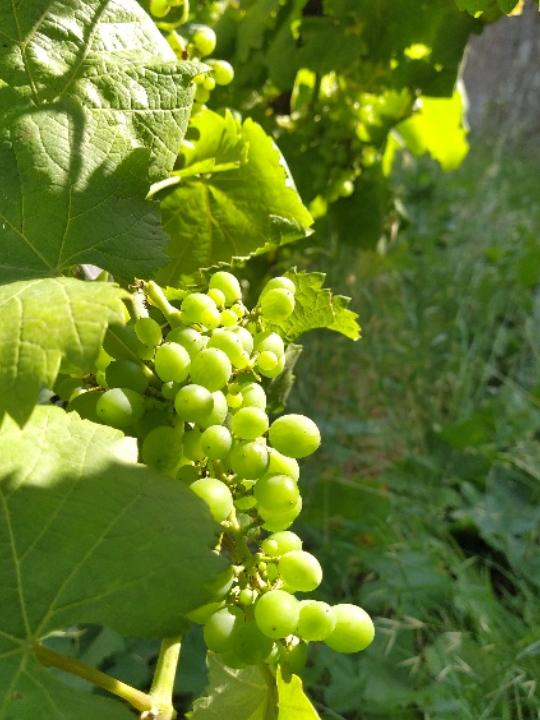grape: (84, 248, 377, 675)
